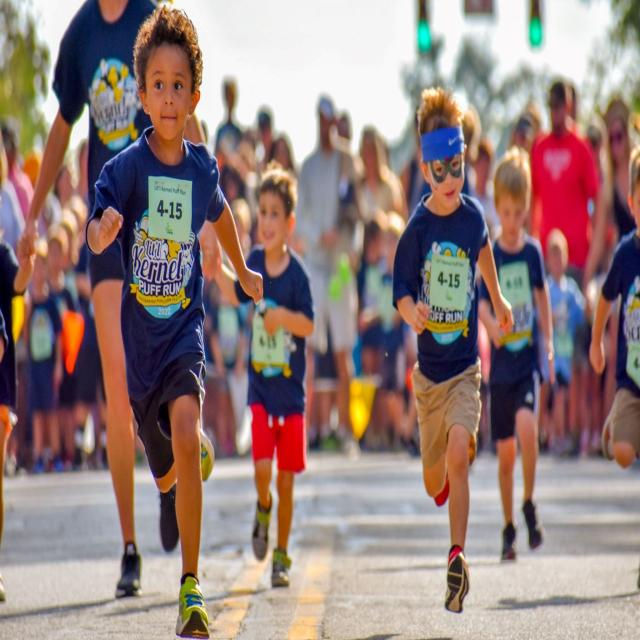Person: (88, 8, 264, 636), (23, 0, 199, 601), (391, 84, 515, 614), (211, 166, 315, 588), (489, 151, 555, 561), (590, 145, 640, 587)
